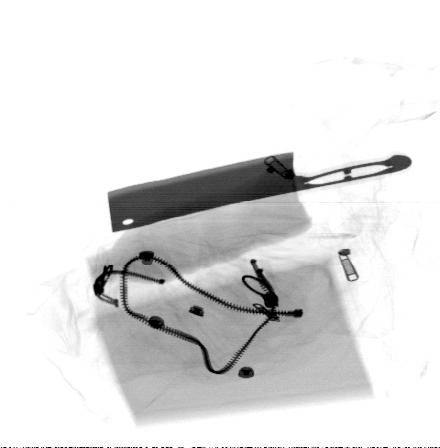Knife: (107, 151, 414, 234)
